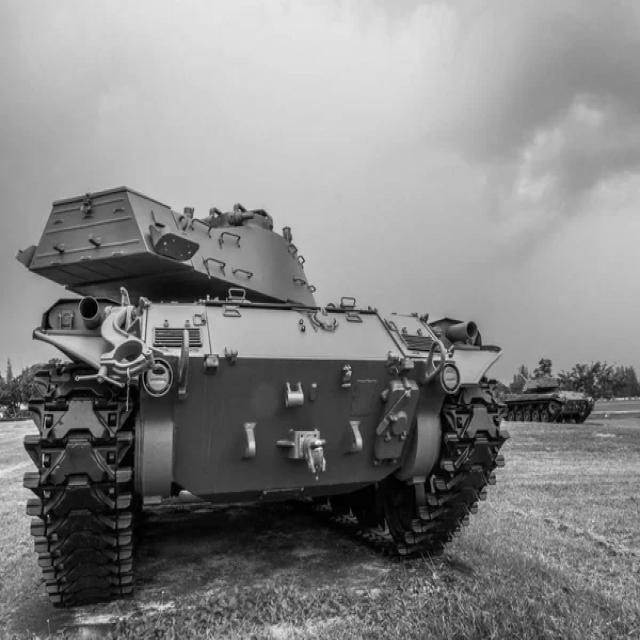Tank: (22, 166, 511, 608), (504, 363, 601, 431)
